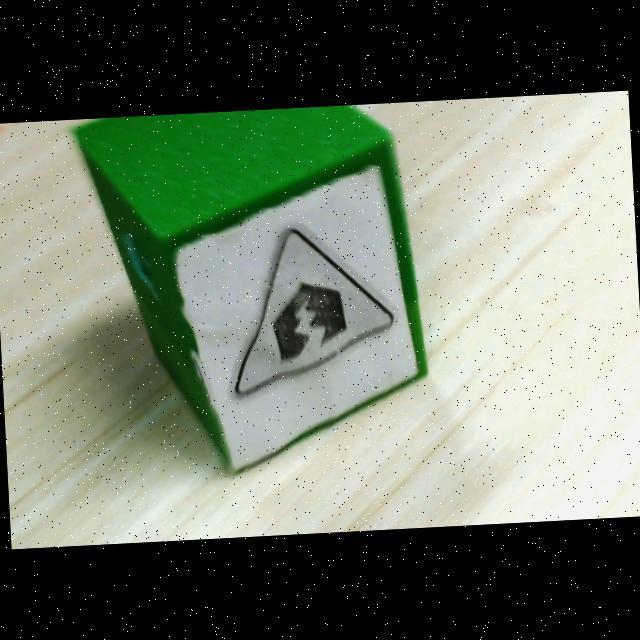Earthquake: (224, 224, 399, 400), (234, 228, 395, 399)
